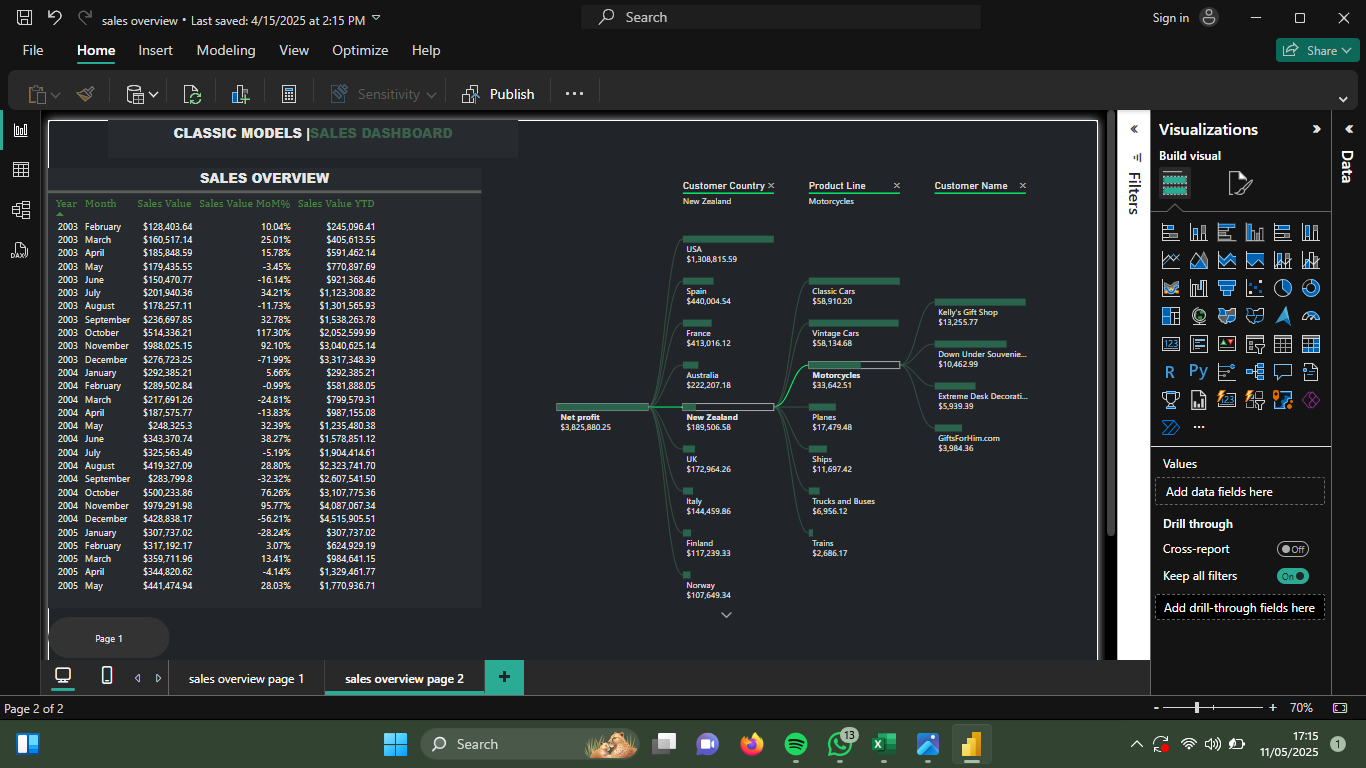

Layout of this report page (visuals, bound fields, positions):
{"tool":"powerbi","page":{"name":"sales overview page 2","canvas":[1500,1000],"ordinal":1},"visuals":[{"type":"decompositionTreeVisual","fields":{"Analyze":["classicmodels sales_data_for_powerbi.Net profit"],"ExplainBy":["classicmodels sales_data_for_powerbi.customer_country","classicmodels sales_data_for_powerbi.productLine","classicmodels sales_data_for_powerbi.customerName"]},"box":[697.1,68.6,767.1,661.4],"z":1000},{"type":"textbox","box":[85.7,0,585.7,54.3],"z":2000},{"type":"tableEx","title":"SALES OVERVIEW","fields":{"Values":["classicmodels sales_data_for_powerbi.orderDate.Variation.Date Hierarchy.Year","classicmodels sales_data_for_powerbi.orderDate.Variation.Date Hierarchy.Month","classicmodels sales_data_for_powerbi.sales_value","classicmodels sales_data_for_powerbi.sales_value MoM%","Table.sales_value YTD"]},"box":[0,68.6,618.6,628.6],"z":3000},{"type":"actionButton","box":[0,710,174.3,58.6],"z":4000}]}

Visuals, with their boxes on the page's 1500x1000 design canvas (x1, y1, x2, y2). These are canvas units, not pixel positions in the 1366x768 screenshot, which may show the page scaled, cropped or inside an application window:
decompositionTreeVisual - classicmodels sales_data_for_powerbi.Net profit x classicmodels sales_data_for_powerbi.customer_country: Rect(697, 69, 1464, 730)
textbox: Rect(86, 0, 671, 54)
"SALES OVERVIEW" tableEx: Rect(0, 69, 619, 697)
actionButton: Rect(0, 710, 174, 769)
